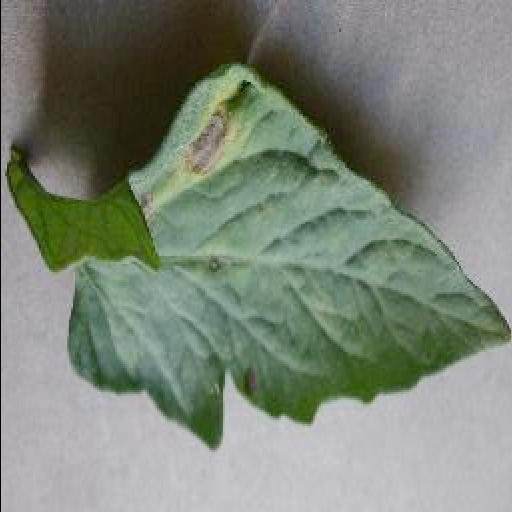disease_tomato: (66, 55, 510, 447)
